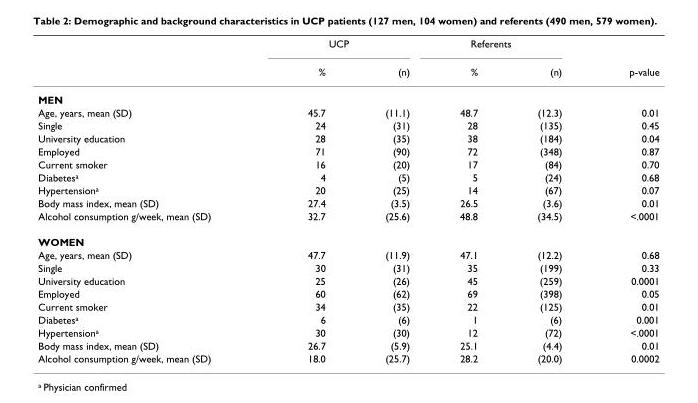table: (37, 37, 658, 363)
table column: (37, 37, 258, 363), (258, 37, 354, 363), (506, 37, 594, 363), (354, 37, 434, 363), (434, 37, 506, 363), (594, 37, 658, 363)
table column header: (37, 37, 658, 85)
table projected row header: (37, 85, 658, 105), (37, 228, 658, 248)
table row: (37, 57, 658, 85), (37, 37, 658, 57), (37, 85, 658, 105), (37, 228, 658, 248), (37, 209, 658, 228), (37, 105, 658, 118), (37, 118, 658, 131), (37, 131, 658, 144), (37, 144, 658, 157), (37, 157, 658, 170), (37, 170, 658, 183), (37, 183, 658, 196), (37, 196, 658, 209), (37, 260, 658, 273), (37, 273, 658, 286), (37, 286, 658, 299), (37, 299, 658, 312), (37, 312, 658, 325), (37, 325, 658, 338), (37, 338, 658, 351), (37, 248, 658, 260), (37, 351, 658, 363)
table spanning cell: (258, 37, 434, 57), (434, 37, 594, 57), (594, 37, 658, 85)
